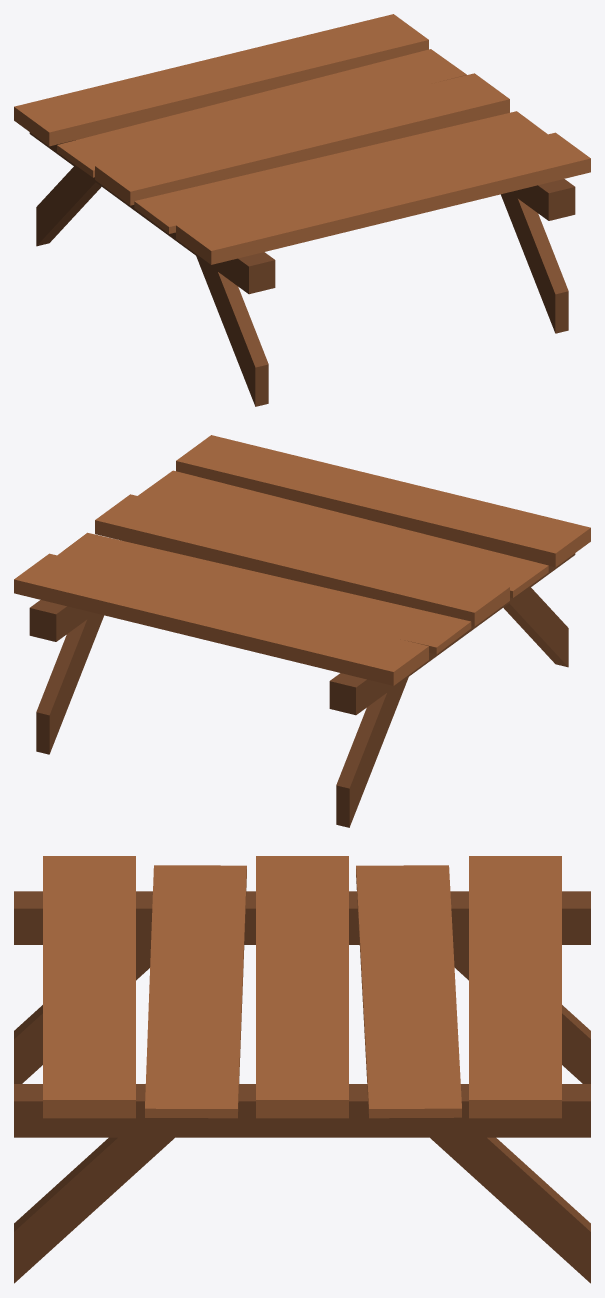
Rendered from bridge.glb.
The picture shows the model from 3 angles, top to bottom: view 1: azimuth 30°, elevation 25°; view 2: azimuth 150°, elevation 25°; view 3: azimuth 270°, elevation 25°; orthographic projection. The views are drawn at different scales.
Parts seen in each view (by area): view 1: bridge; view 2: bridge; view 3: bridge.
Part boxes in pixels (x1,y1,x2,y2): bridge: [14, 14, 590, 406]; bridge: [14, 435, 590, 827]; bridge: [14, 856, 590, 1283].
Bounding box in the file's own units: 1 × 0.3925 × 1.
